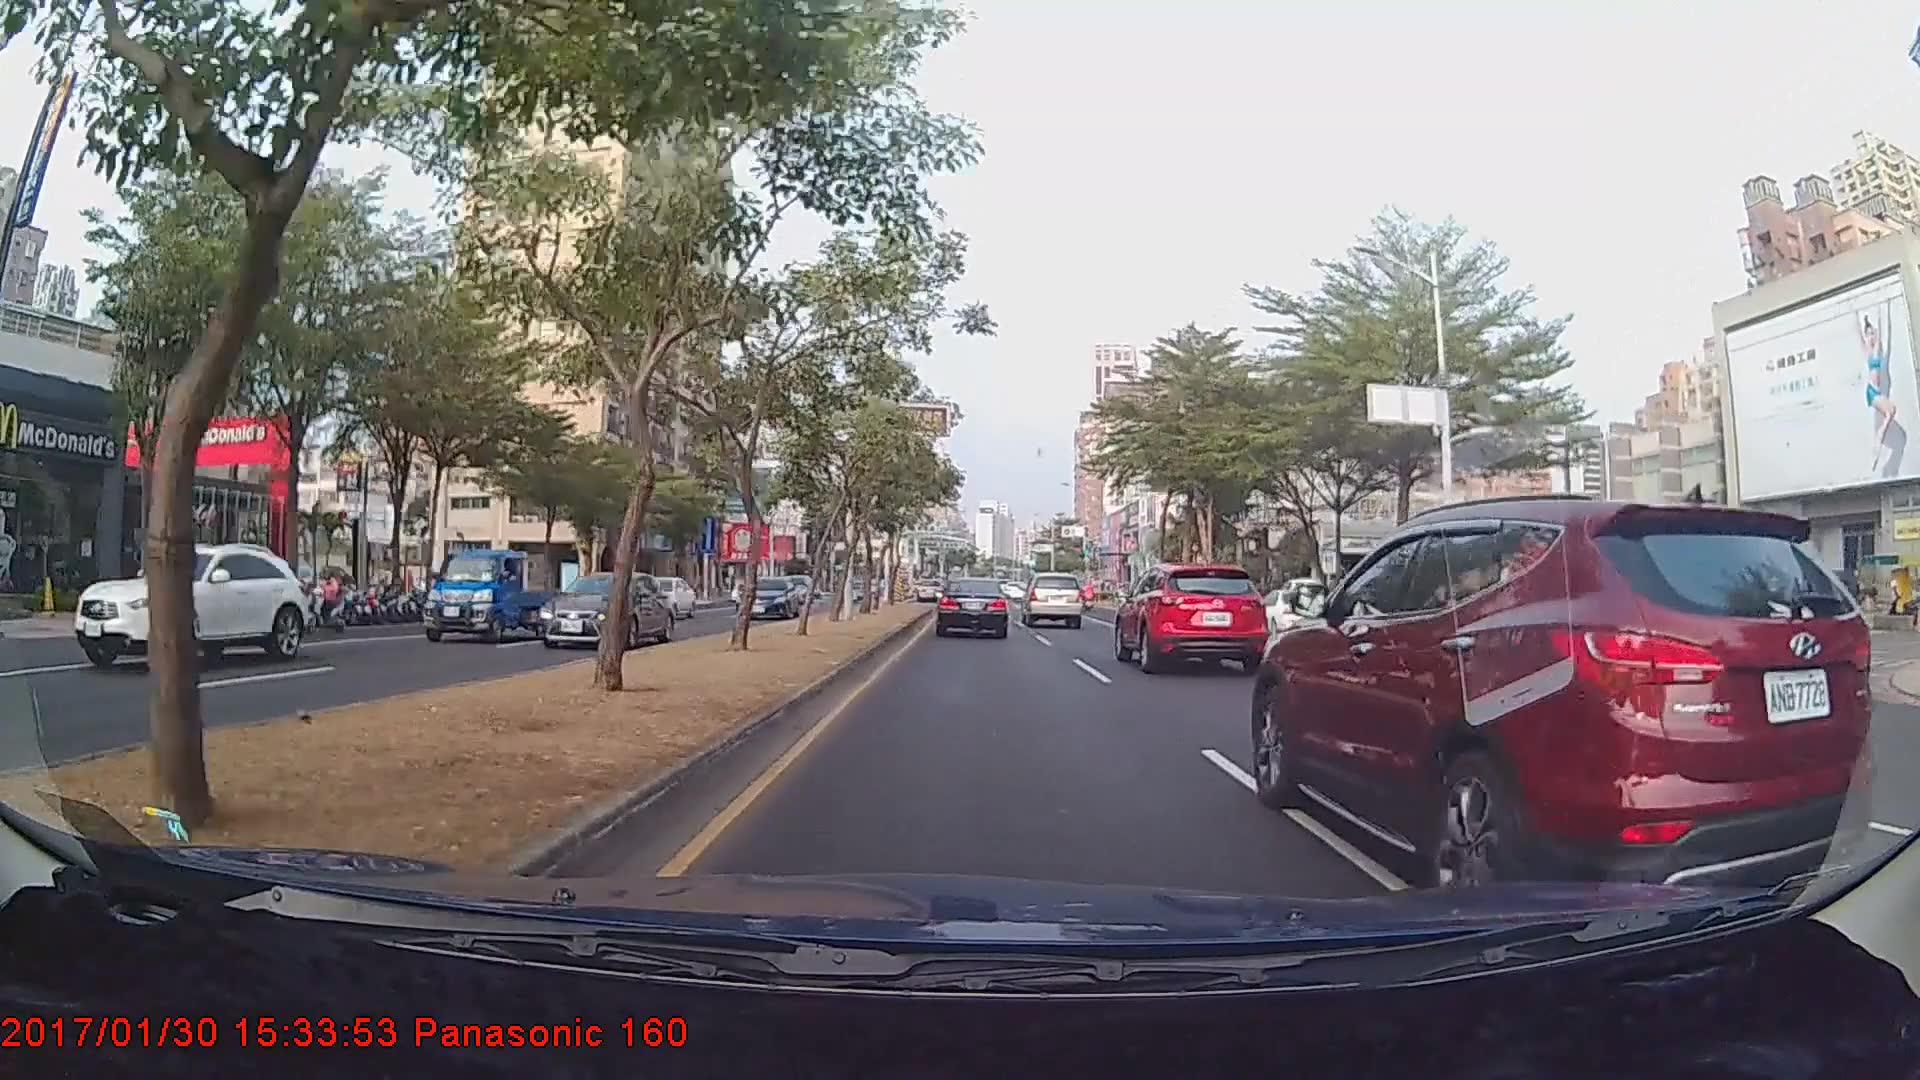vehicle: (1247, 493, 1873, 936), (69, 541, 307, 673), (1113, 564, 1269, 676), (415, 546, 564, 642), (535, 567, 673, 646), (935, 576, 1009, 640), (1022, 572, 1083, 628), (626, 574, 695, 618), (737, 574, 800, 621)
